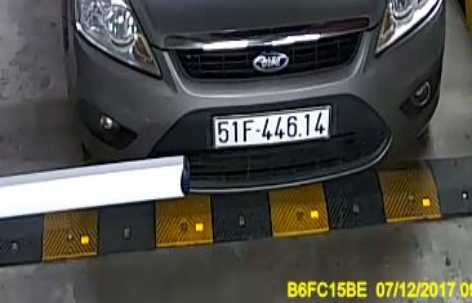plate: (209, 108, 340, 150)
